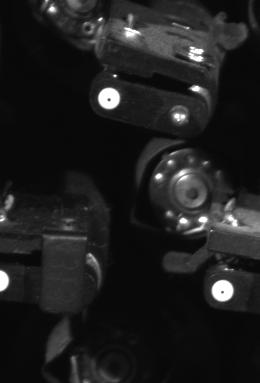fiber: (208, 276, 239, 305), (93, 84, 125, 112), (1, 266, 13, 297)
